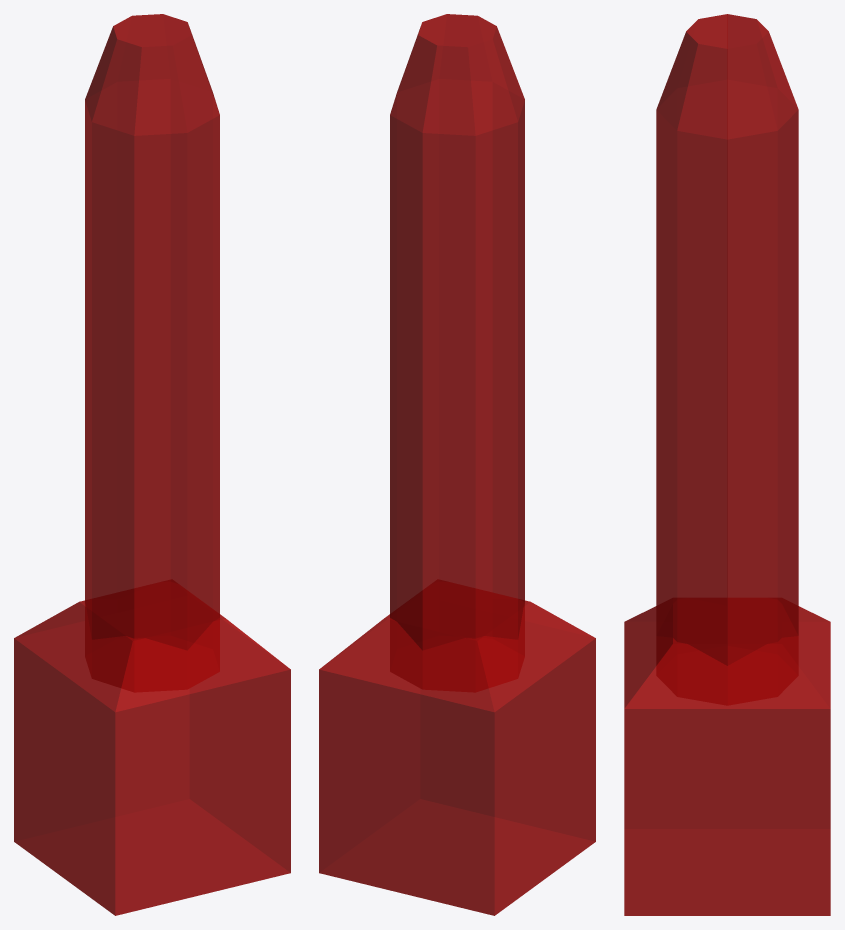
Rendered from SM_Bld_Village_Chimney_01_Collision.fbx.
3 views of the same model, side by side, from view 1: azimuth 30°, elevation 25°; view 2: azimuth 150°, elevation 25°; view 3: azimuth 270°, elevation 25° (orthographic).
Visible parts, largest first — view 1: SM_Bld_Village_Chimney_01_Collision; view 2: SM_Bld_Village_Chimney_01_Collision; view 3: SM_Bld_Village_Chimney_01_Collision.
Part boxes in pixels (<box>): SM_Bld_Village_Chimney_01_Collision: <box>14,14,290,915</box>; SM_Bld_Village_Chimney_01_Collision: <box>319,14,595,915</box>; SM_Bld_Village_Chimney_01_Collision: <box>624,14,830,915</box>.
Size of the model in its own units: 171 by 769 by 171.
